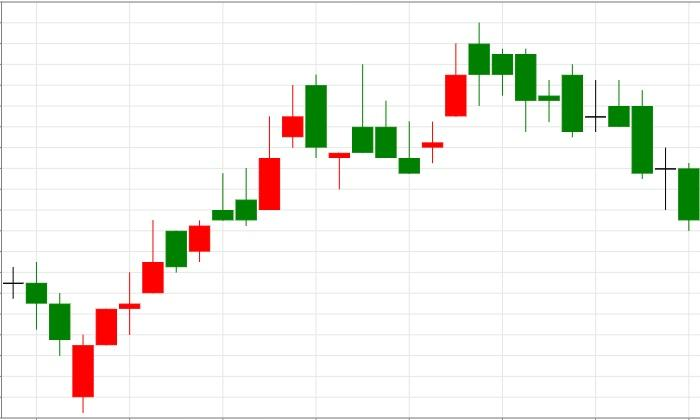bearish_engulfing_fall: (189, 74, 326, 262)
